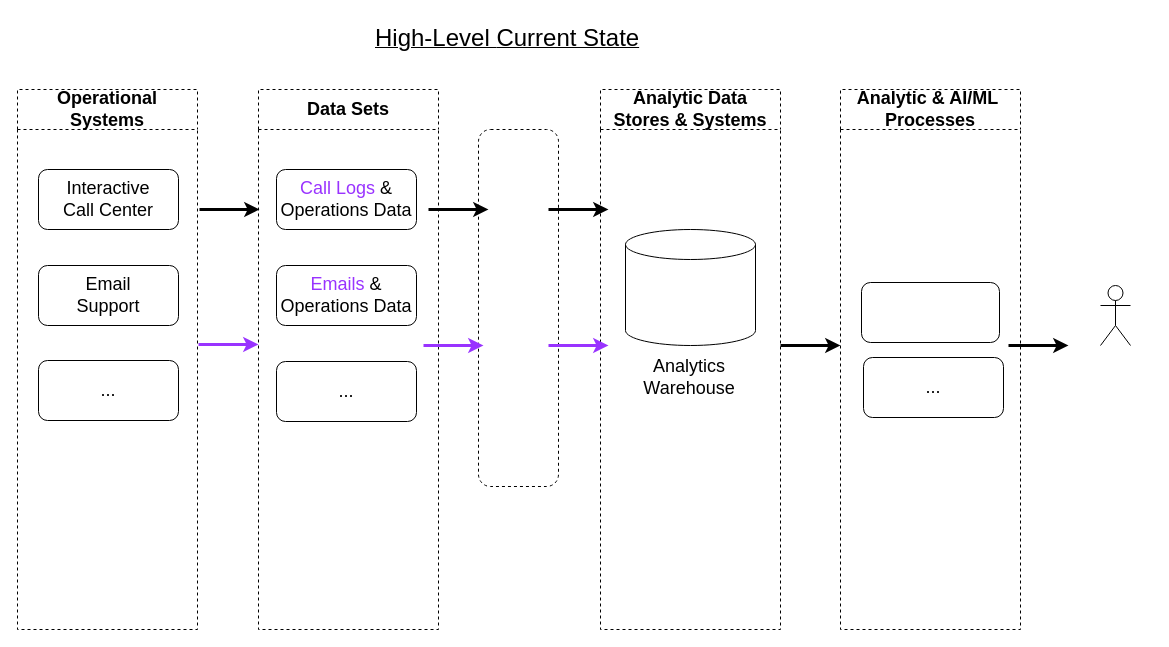
The diagram is 1169 pixels wide and 647 high, and some of its shapes have lost their labels. The centre of each missing label's shape, as x and y in pixels:
"Business Analytics" belongs at pixel 930 312.
"Extract Transform & Load (ETL)" belongs at pixel 518 307.
"In-House BA" belongs at pixel 1115 315.
"PII/Sensitive & Ops Data" belongs at pixel 690 287.
